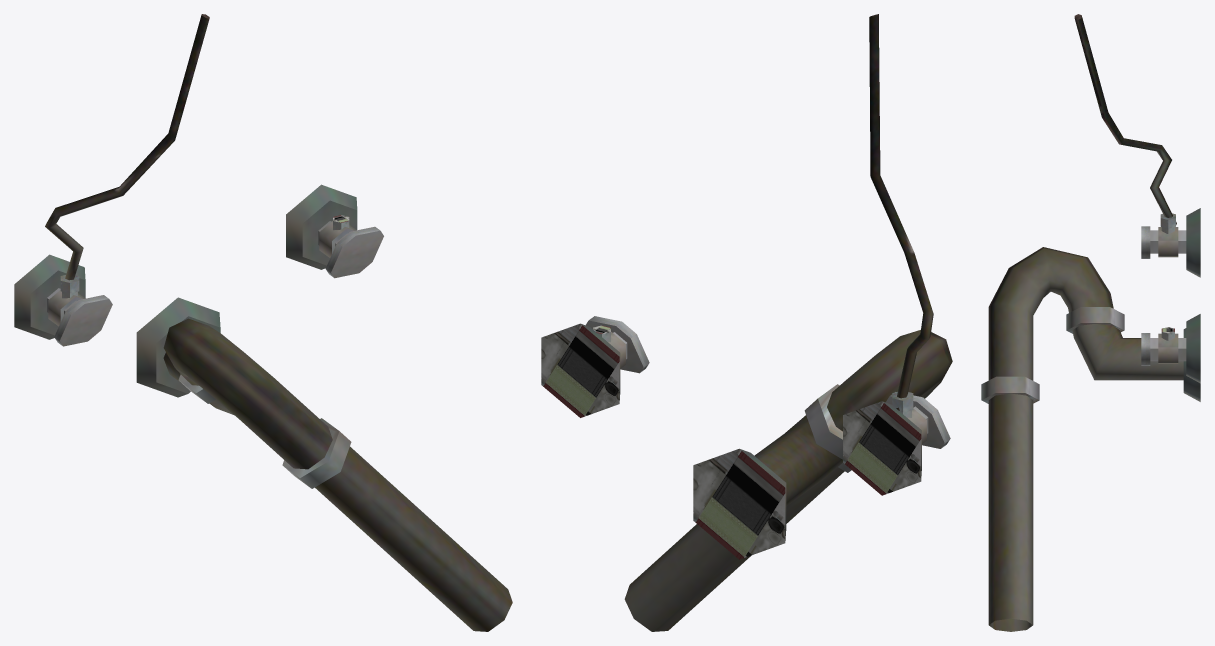
File: bathroom_props_washbasin_broken1.fbx
3 renders of one model, left to right at view 1: azimuth 30°, elevation 25°; view 2: azimuth 150°, elevation 25°; view 3: azimuth 270°, elevation 25°, orthographic. The views are drawn at different scales.
Parts seen in each view (by area): view 1: Box01.001; view 2: Box01.001; view 3: Box01.001.
Boxes of the visible parts, box(x1,y1,x2,y2) form: Box01.001: box(14, 14, 512, 631); Box01.001: box(541, 14, 952, 631); Box01.001: box(981, 14, 1200, 631).
Bounding box in the file's own units: 0.5873 × 0.9516 × 0.3594.
